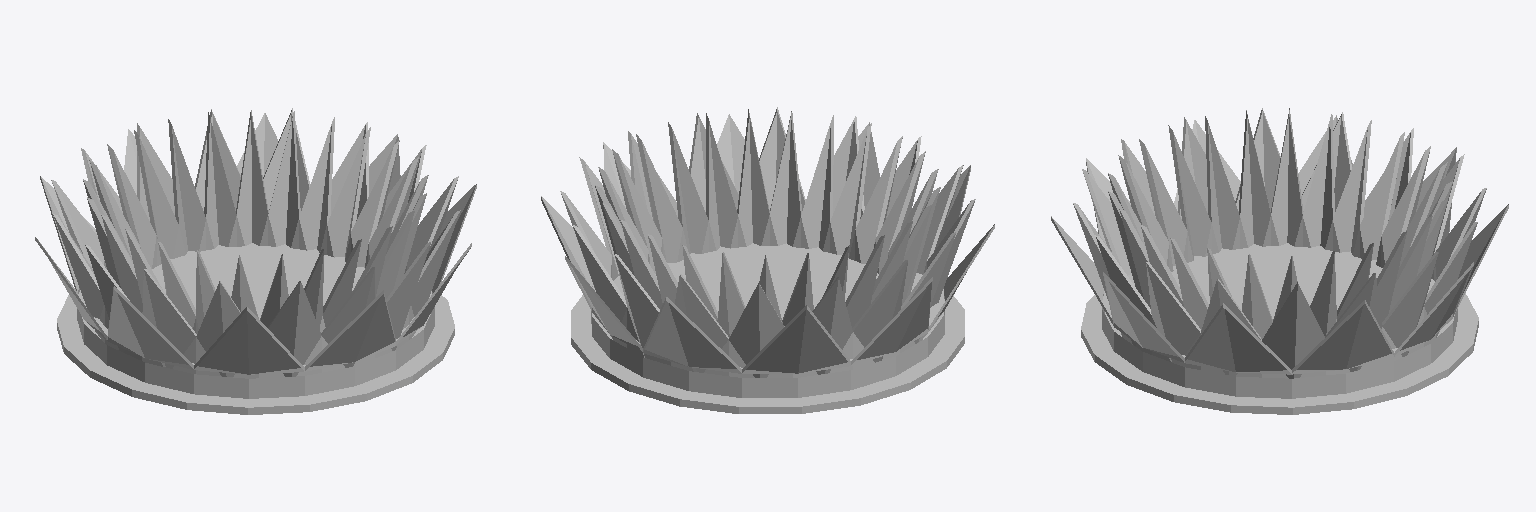
The model's file is portal_abrir_000028.obj.
3 renders of one model, left to right at view 1: azimuth 30°, elevation 25°; view 2: azimuth 150°, elevation 25°; view 3: azimuth 270°, elevation 25°, orthographic.
Parts seen in each view (by area): view 1: pCylinder1, Cylinder.001, Cylinder; view 2: pCylinder1, Cylinder.001, Cylinder; view 3: pCylinder1, Cylinder.001, Cylinder.
Boxes of the visible parts, x1=… form: pCylinder1: x1=35, y1=113, x2=476, y2=414; Cylinder.001: x1=83, y1=110, x2=428, y2=333; Cylinder: x1=51, y1=108, x2=460, y2=378; pCylinder1: x1=541, y1=114, x2=994, y2=413; Cylinder.001: x1=595, y1=109, x2=940, y2=337; Cylinder: x1=560, y1=107, x2=975, y2=377; pCylinder1: x1=1051, y1=115, x2=1508, y2=414; Cylinder.001: x1=1108, y1=108, x2=1452, y2=338; Cylinder: x1=1073, y1=108, x2=1486, y2=378.
Bounding box in the file's own units: 5.15 × 1.91 × 5.3.